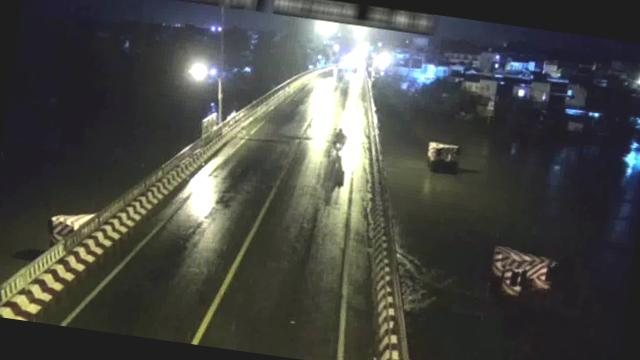Bike: (328, 126, 350, 156)
